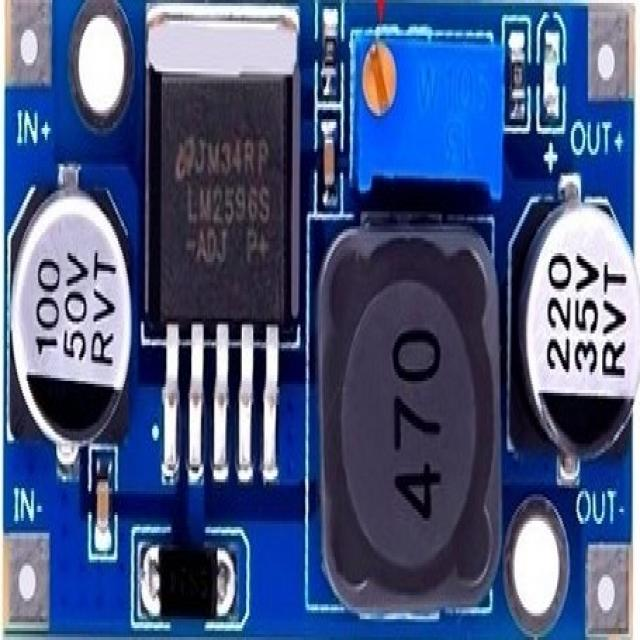IC: (145, 23, 292, 413)
LED: (540, 30, 559, 113)
capacitor 1V5: (7, 186, 135, 446), (524, 193, 640, 462), (96, 470, 110, 535), (324, 129, 336, 189)
diode -D1-: (148, 538, 226, 628)
inductor F1: (317, 221, 503, 604)
potentiometer POT1: (350, 34, 498, 201)
resistor IR1: (511, 41, 525, 127), (323, 28, 337, 96)
